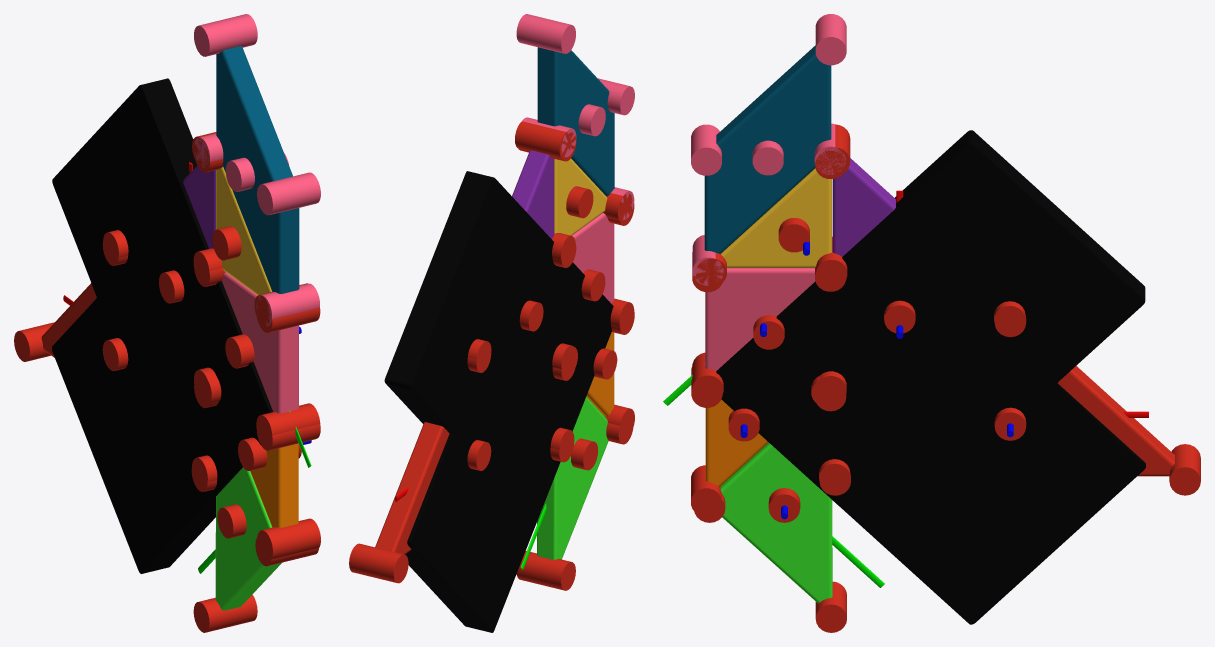
Rendered from Template Boat.fbx.
The picture shows the model from 3 angles, left to right: view 1: azimuth 30°, elevation 25°; view 2: azimuth 150°, elevation 25°; view 3: azimuth 270°, elevation 25°; orthographic projection. The views are drawn at different scales.
Parts seen in each view (by area): view 1: Heart, Template_004, Template_002, Template_007, Template_003, Template_001, ProximitySensor_4, ProximitySensor_3_3, ProximitySensor_3_2, Template_005, ProximitySensor_3_1, ProximitySensor_1_3 (+19 smaller); view 2: Heart, Template_004, Template_002, Template_006, Template_005, Template_007, Template_001, ProximitySensor_3_3, ProximitySensor_2_5, ProximitySensor_3_1, ProximitySensor_3_4, Template_003 (+17 smaller); view 3: Heart, Template_004, Template_002, Template_007, Template_001, Template_005, Template_006, Template_003, ProximitySensor_3_3, ProximitySensor_2_5, ProximitySensor_4, ProximitySensor_3_1 (+15 smaller).
Boxes of the visible parts, left/top/right/bottom form: Heart: left=52, top=78, right=272, bottom=573; Template_004: left=216, top=46, right=299, bottom=293; Template_002: left=215, top=467, right=281, bottom=610; Template_007: left=222, top=272, right=298, bottom=413; Template_003: left=250, top=443, right=298, bottom=527; Template_001: left=216, top=167, right=271, bottom=295; ProximitySensor_4: left=257, top=172, right=320, bottom=215; ProximitySensor_3_3: left=194, top=14, right=257, bottom=56; ProximitySensor_3_2: left=257, top=518, right=320, bottom=561; Template_005: left=183, top=165, right=215, bottom=248; ProximitySensor_3_1: left=193, top=594, right=257, bottom=632; ProximitySensor_1_3: left=256, top=283, right=319, bottom=326; Heart: left=384, top=171, right=613, bottom=632; Template_004: left=537, top=47, right=614, bottom=196; Template_002: left=537, top=397, right=608, bottom=559; Template_006: left=375, top=422, right=449, bottom=554; Template_005: left=512, top=150, right=554, bottom=238; Template_007: left=572, top=213, right=614, bottom=303; Template_001: left=554, top=158, right=607, bottom=235; ProximitySensor_3_3: left=516, top=14, right=575, bottom=53; ProximitySensor_2_5: left=349, top=543, right=408, bottom=583; ProximitySensor_3_1: left=516, top=551, right=575, bottom=590; ProximitySensor_3_4: left=515, top=121, right=574, bottom=159; Template_003: left=586, top=332, right=614, bottom=416; Heart: left=716, top=130, right=1145, bottom=624; Template_004: left=704, top=45, right=831, bottom=253; Template_002: left=720, top=443, right=832, bottom=603; Template_007: left=705, top=268, right=815, bottom=370; Template_001: left=721, top=168, right=831, bottom=267; Template_005: left=832, top=158, right=895, bottom=256; Template_006: left=1058, top=366, right=1174, bottom=476; Template_003: left=705, top=399, right=768, bottom=487; ProximitySensor_3_3: left=815, top=14, right=846, bottom=65; ProximitySensor_2_5: left=1169, top=444, right=1200, bottom=495; ProximitySensor_4: left=691, top=124, right=721, bottom=175; ProximitySensor_3_1: left=815, top=581, right=846, bottom=632.
Bounding box in the file's own units: 180 × 1626 × 1330.
